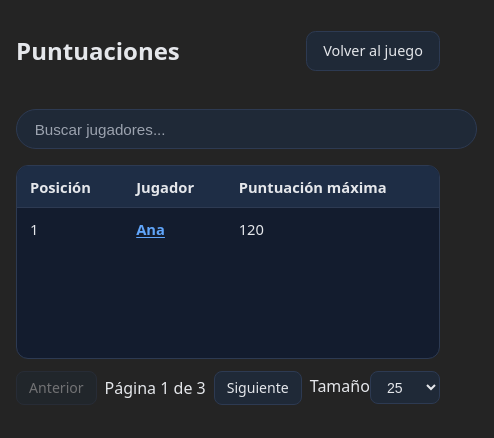
Scenario: LeaderboardPage › cambio de página › muestra spinner mientras carga la nueva página
The image size is (494, 438).
Expected: the table is shown, left=17, top=166, right=439, bottom=249
Click the button "Siguiente" at x=258, y=388, box left=214, top=371, right=302, bottom=405
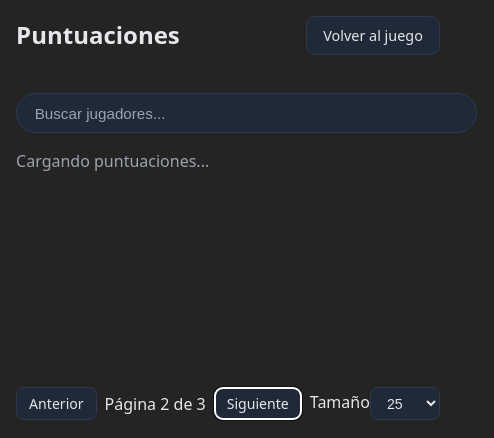
Expected: the text "Cargando puntuaciones..." is shown, left=16, top=150, right=209, bottom=172
